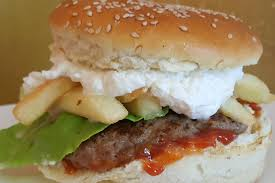hamburger: (29, 1, 274, 183)
